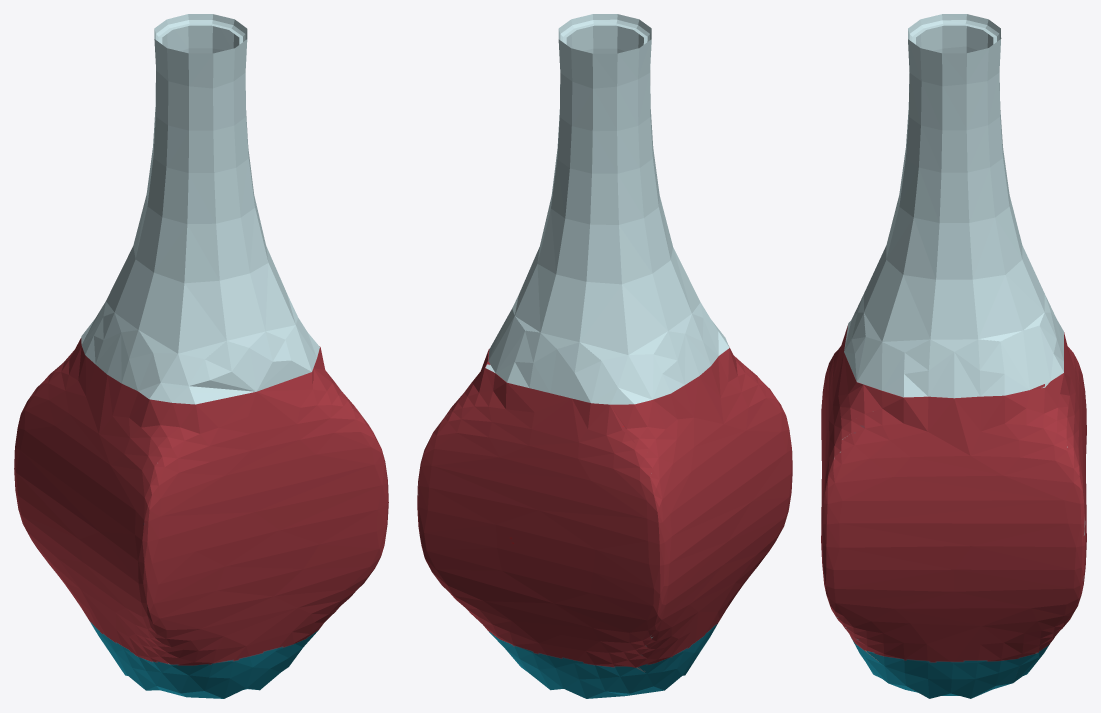
Rendered from Pottest.fbx.
The picture shows the model from 3 angles, left to right: view 1: azimuth 30°, elevation 25°; view 2: azimuth 150°, elevation 25°; view 3: azimuth 270°, elevation 25°; orthographic projection.
Parts seen in each view (by area): view 1: Cube.001; view 2: Cube.001; view 3: Cube.001.
Part boxes in pixels (x1,y1,x2,y2): Cube.001: (14, 14, 388, 698); Cube.001: (417, 14, 792, 698); Cube.001: (821, 14, 1086, 698).
Bounding box in the file's own units: 134 × 326 × 123.
Materials: 1 (1 with a texture image).
